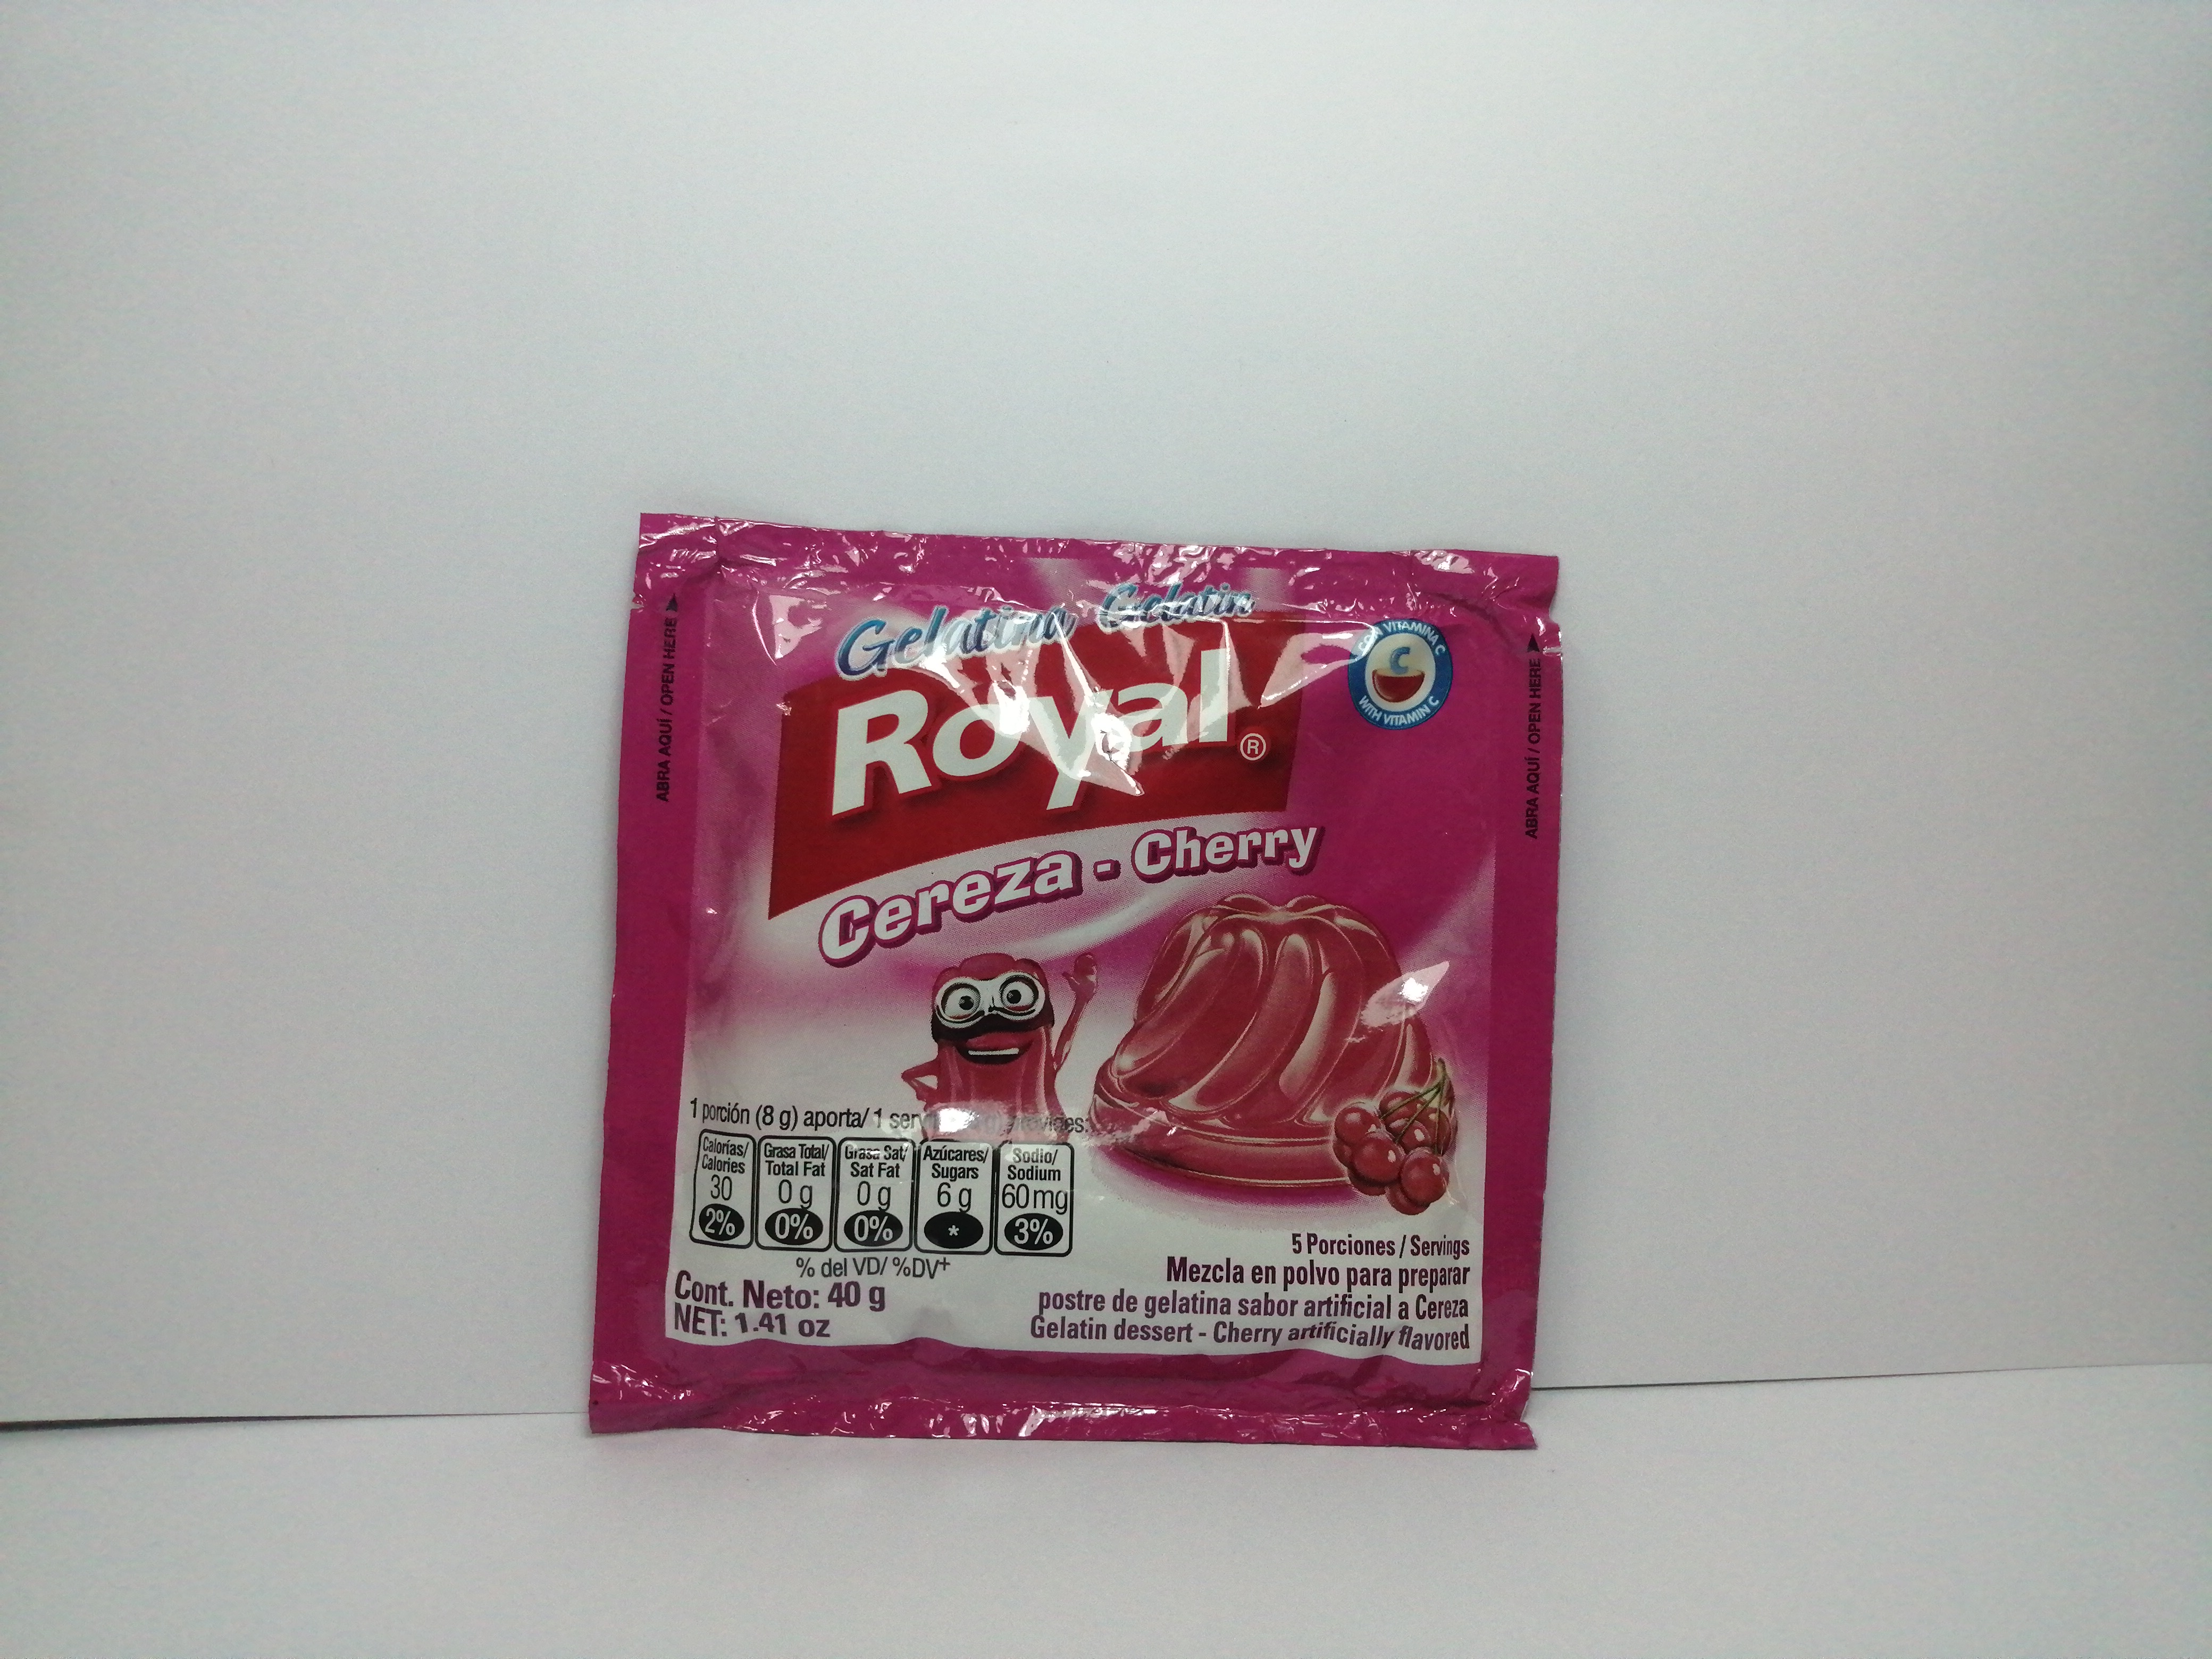gelatina: (592, 511, 1559, 1455)
